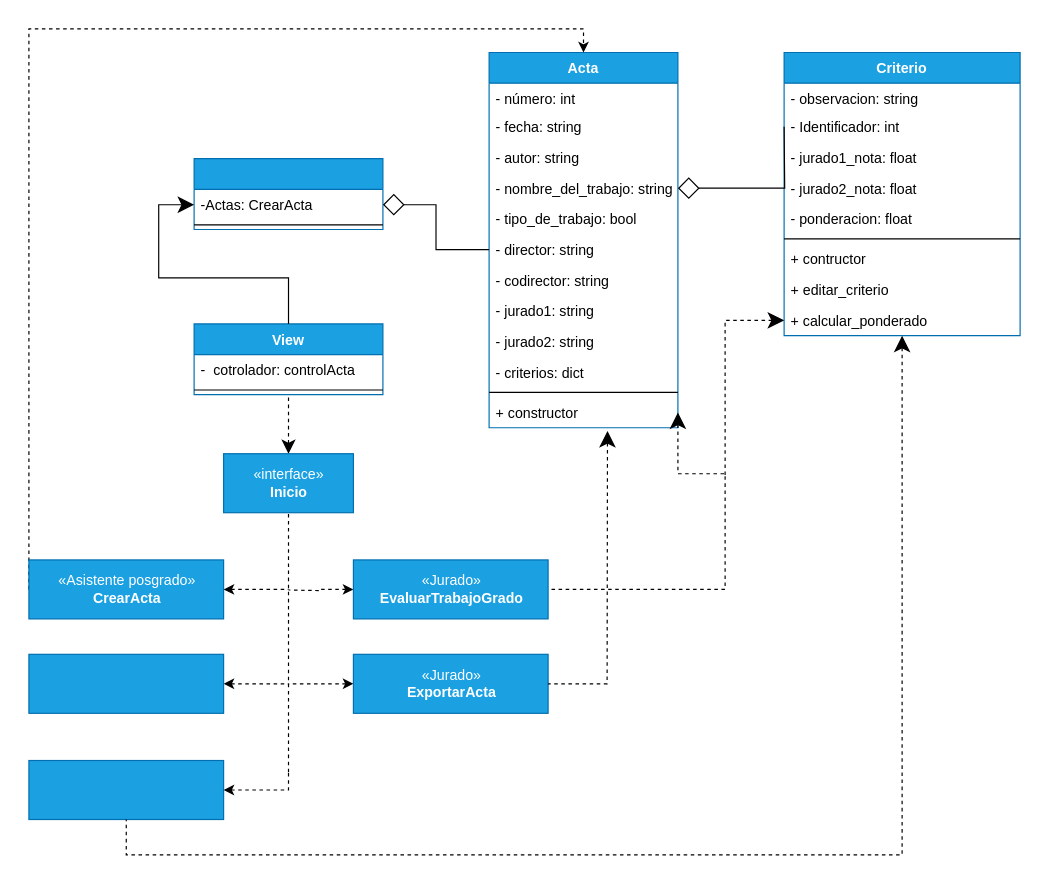
The diagram is 1041 pixels wide and 891 high, and some of its shapes have lost their labels. The box of each missing label's shape, as (x1, y1, x2, y2) in pixels:
ControlActa: (193, 158, 383, 230)
«Asistente posgrado» «Directora» ListaActas: (28, 653, 224, 713)
«Direcotra» AñadirCriterio: (28, 759, 224, 820)
